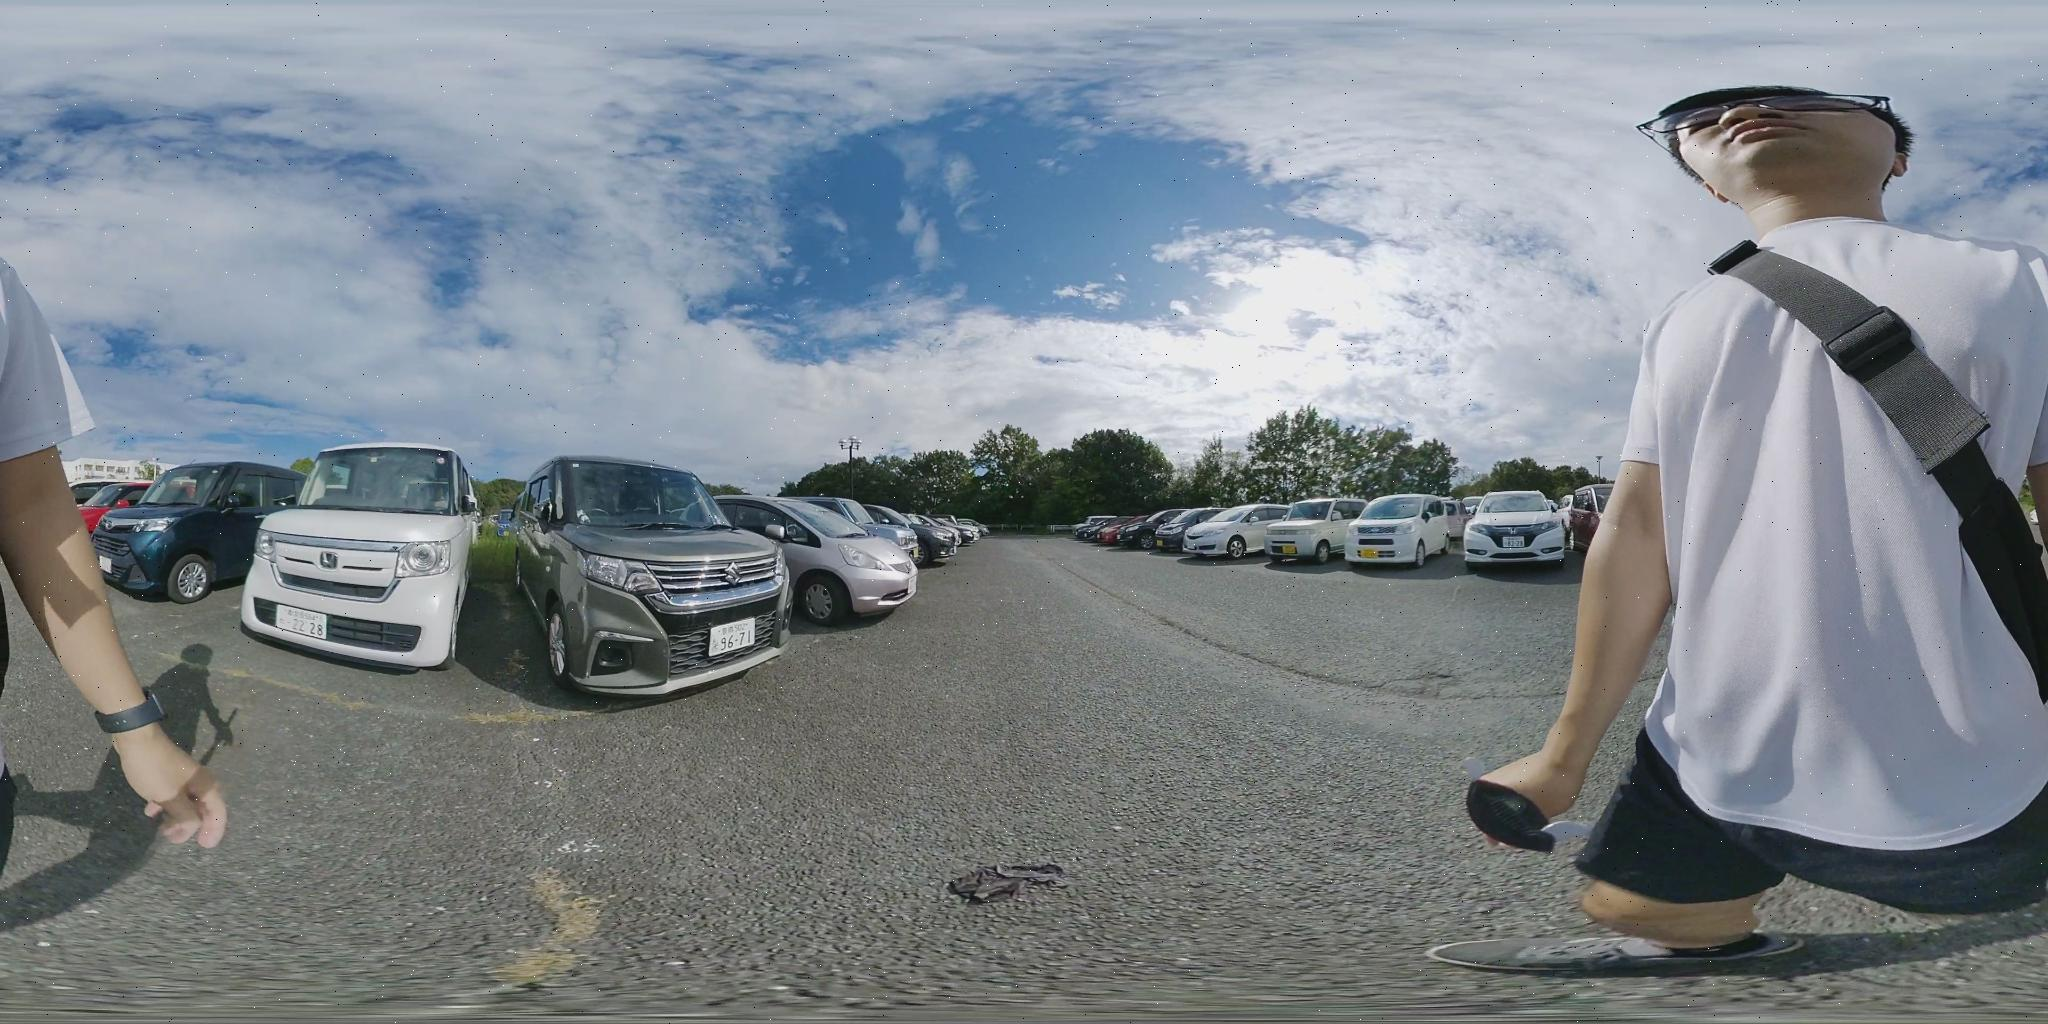car: (474, 457, 794, 707), (251, 443, 469, 657), (90, 457, 316, 601), (707, 498, 926, 632), (758, 495, 939, 585), (1340, 494, 1468, 568), (1178, 503, 1349, 558), (822, 499, 957, 562), (1458, 490, 1569, 564), (1250, 502, 1365, 567), (1145, 509, 1234, 552), (74, 481, 155, 526), (923, 517, 987, 552), (1102, 516, 1168, 550), (1072, 519, 1138, 546)
